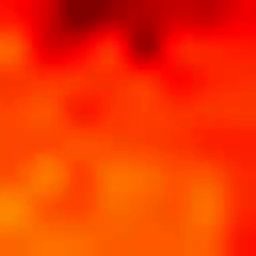person: (60, 1, 209, 32)
